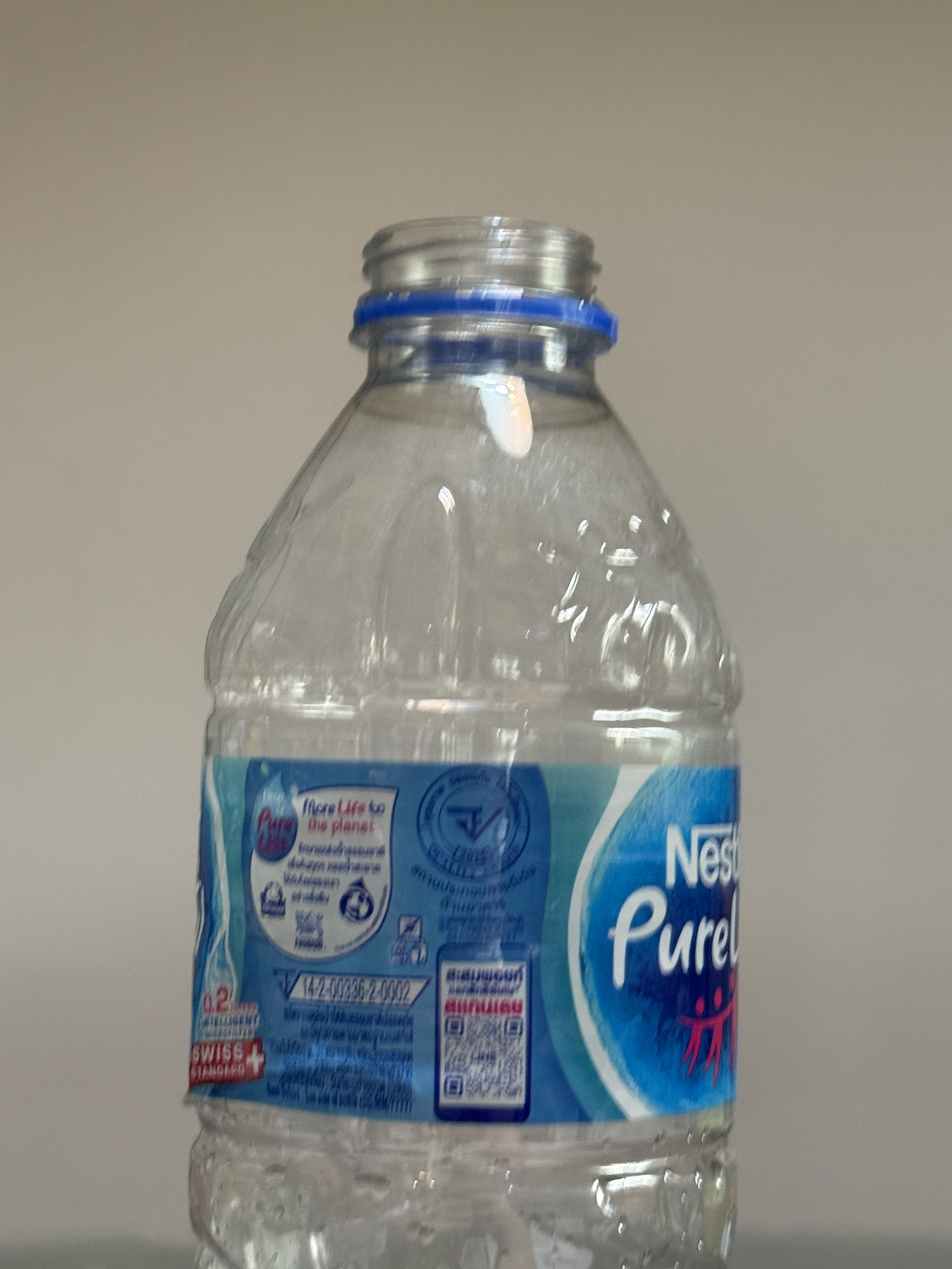no_cap: (344, 212, 621, 344)
